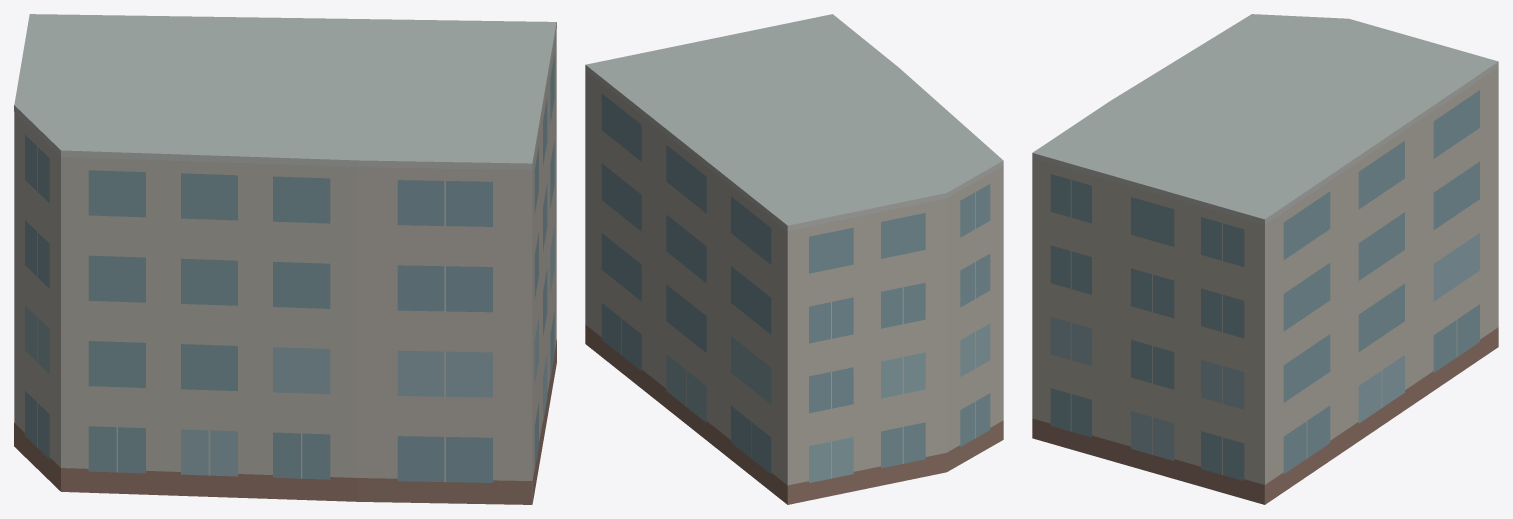
File: survey-upis-32780900.glb
3 views of the same model, side by side, from view 1: azimuth 30°, elevation 25°; view 2: azimuth 150°, elevation 25°; view 3: azimuth 270°, elevation 25° (orthographic). The views are drawn at different scales.
Parts seen in each view (by area): view 1: survey-upis-32780900.tmp; view 2: survey-upis-32780900.tmp; view 3: survey-upis-32780900.tmp.
Part boxes in pixels (bbox=[...]): survey-upis-32780900.tmp: bbox=[14, 14, 556, 504]; survey-upis-32780900.tmp: bbox=[585, 14, 1003, 504]; survey-upis-32780900.tmp: bbox=[1032, 14, 1498, 504].
Size of the model in its own units: 19.77 by 12.8 by 18.96.
